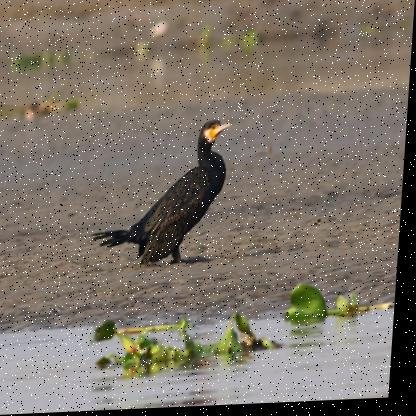Burung: (98, 117, 241, 278)
